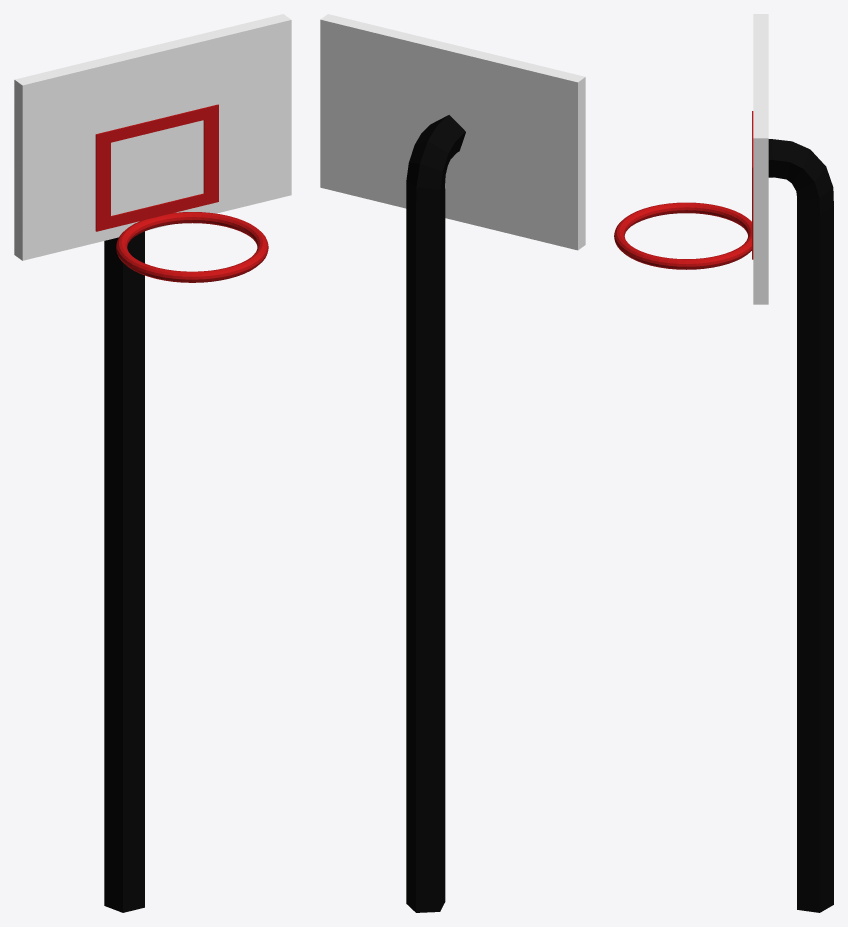
The model's file is hoop.obj.
3 views of the same model, side by side, from view 1: azimuth 30°, elevation 25°; view 2: azimuth 150°, elevation 25°; view 3: azimuth 270°, elevation 25° (orthographic). The views are drawn at different scales.
Visible parts, largest first — view 1: Cube, Cylinder_Cylinder.001, Cube.001, Torus; view 2: Cube, Cylinder_Cylinder.001; view 3: Cylinder_Cylinder.001, Cube, Torus.
Part boxes in pixels (x1,y1,x2,y2): Cube: (14, 14, 291, 260); Cylinder_Cylinder.001: (104, 231, 144, 912); Cube.001: (95, 104, 218, 231); Torus: (116, 212, 268, 282); Cube: (320, 14, 585, 250); Cylinder_Cylinder.001: (406, 115, 465, 912); Cylinder_Cylinder.001: (768, 139, 833, 912); Cube: (753, 14, 768, 304); Torus: (614, 202, 751, 269).
Size of the model in its own units: 4.39 by 13.64 by 3.28.
